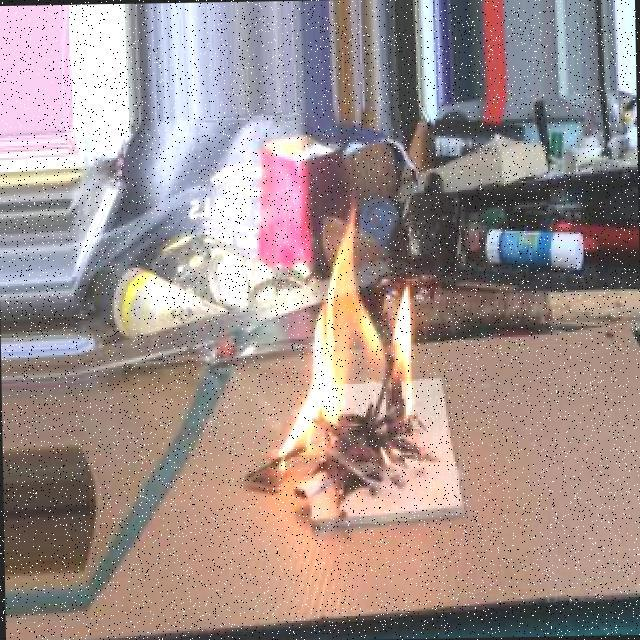Fire: (276, 195, 417, 461)
